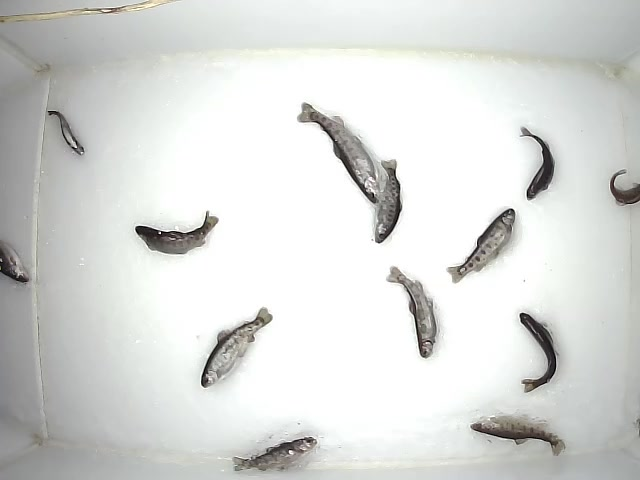fish: (293, 100, 385, 205), (200, 305, 274, 391), (445, 206, 517, 285), (383, 264, 438, 359), (131, 209, 221, 256), (468, 415, 568, 456), (230, 434, 318, 475), (516, 309, 556, 395), (372, 158, 407, 243), (519, 126, 556, 199), (46, 108, 86, 157)
